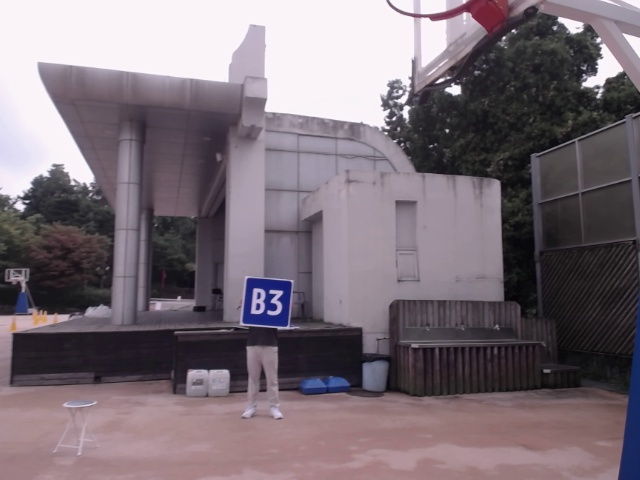delivery_b3: (243, 276, 293, 329)
